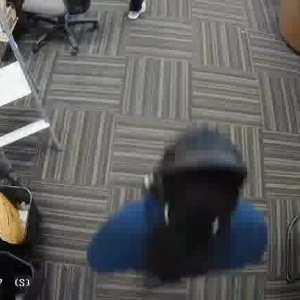person: (128, 121, 248, 293)
